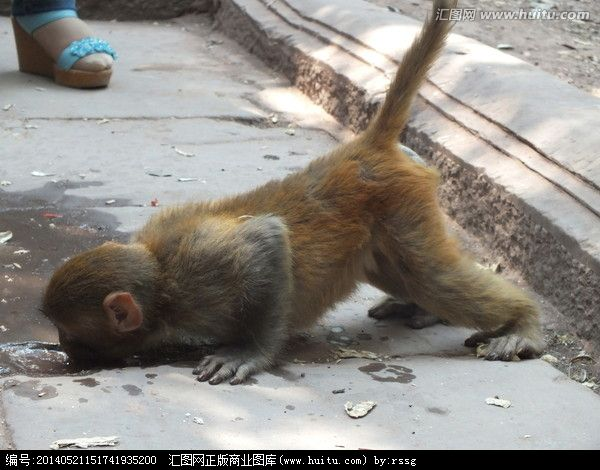monkey: (43, 97, 555, 383)
